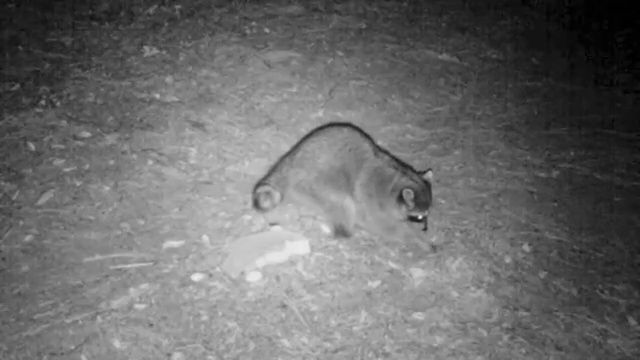raccoon: (247, 117, 442, 249)
